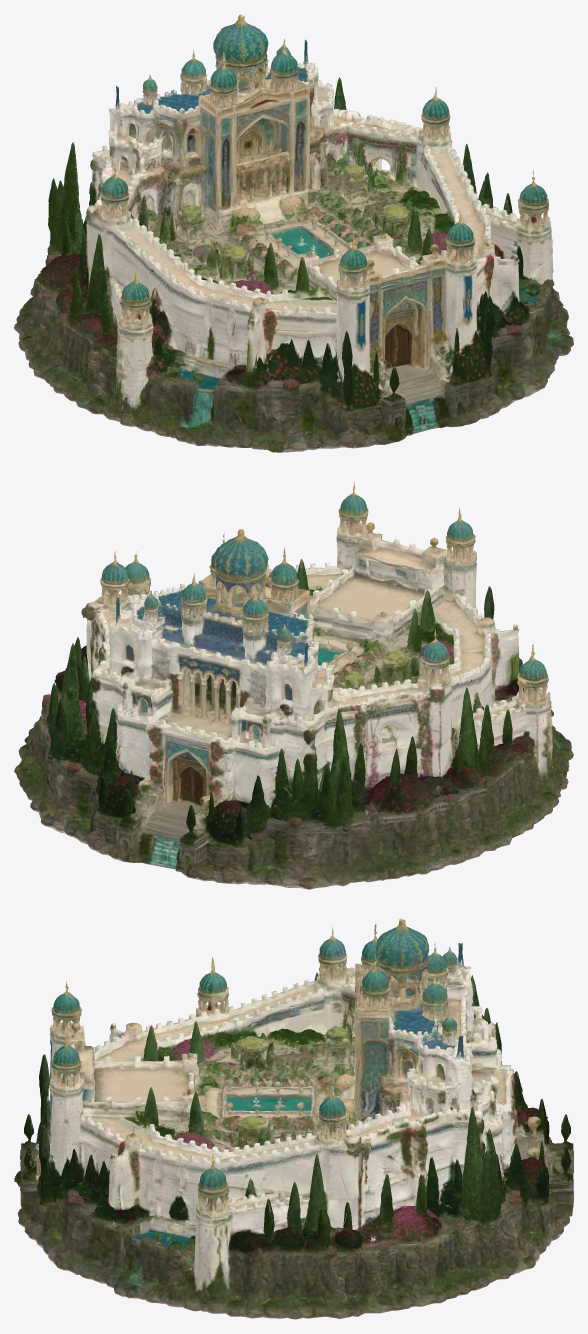
The model's file is KabulPalace.glb.
3 views of the same model, one above another, from view 1: azimuth 30°, elevation 25°; view 2: azimuth 150°, elevation 25°; view 3: azimuth 270°, elevation 25° (orthographic).
Size of the model in its own units: 1.89 by 1.06 by 1.9.
Materials: 1 (1 with a texture image).
